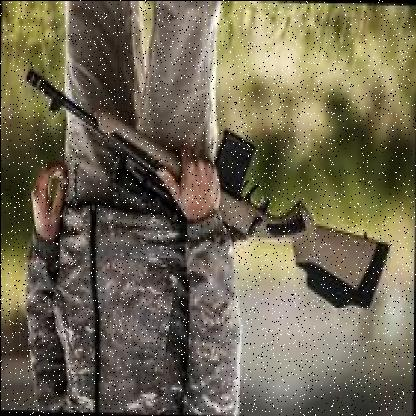rifle: (19, 57, 400, 318)
